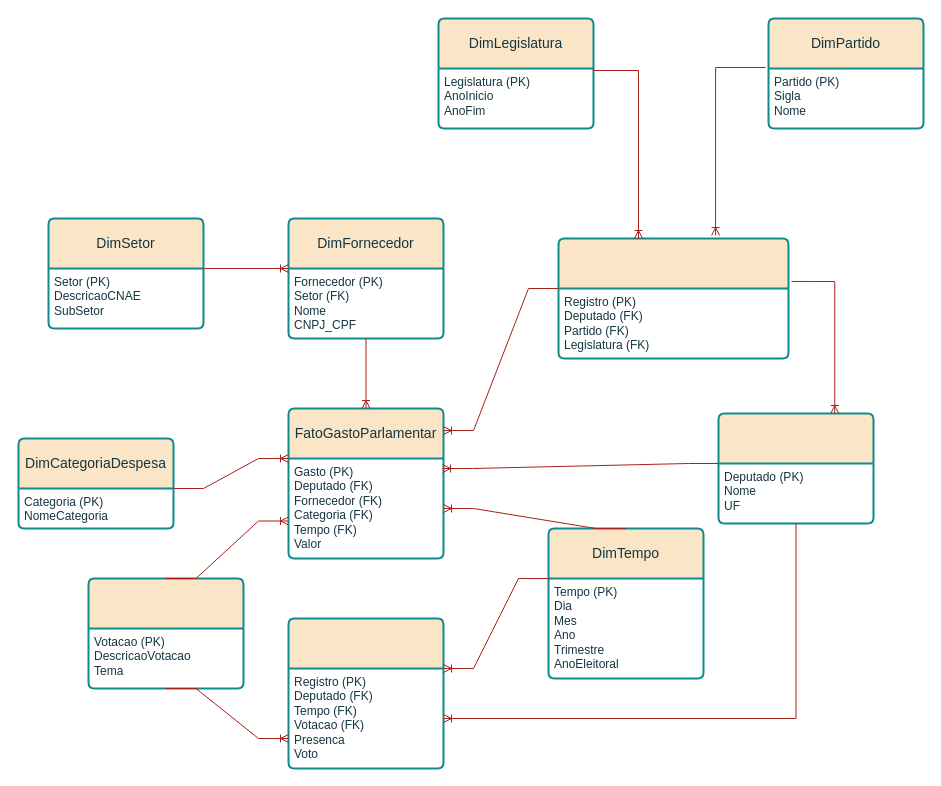
Image size: 941x786. Some labels were removed from this diagram. Here are the shapes that lost their labels. From the top down, the box of each, then its label:
(557, 237, 789, 359): BridgeDeputadoLegislaturaPartido
(717, 412, 874, 524): DimDeputado
(87, 577, 244, 689): DimVotacao
(287, 617, 444, 769): FatoVotacaoPresenca
